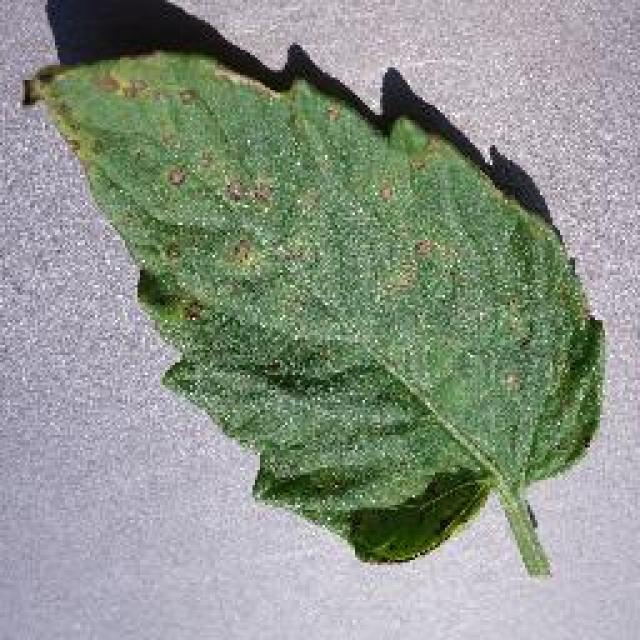Tomato Septoria spot leaf: (25, 43, 610, 565)
